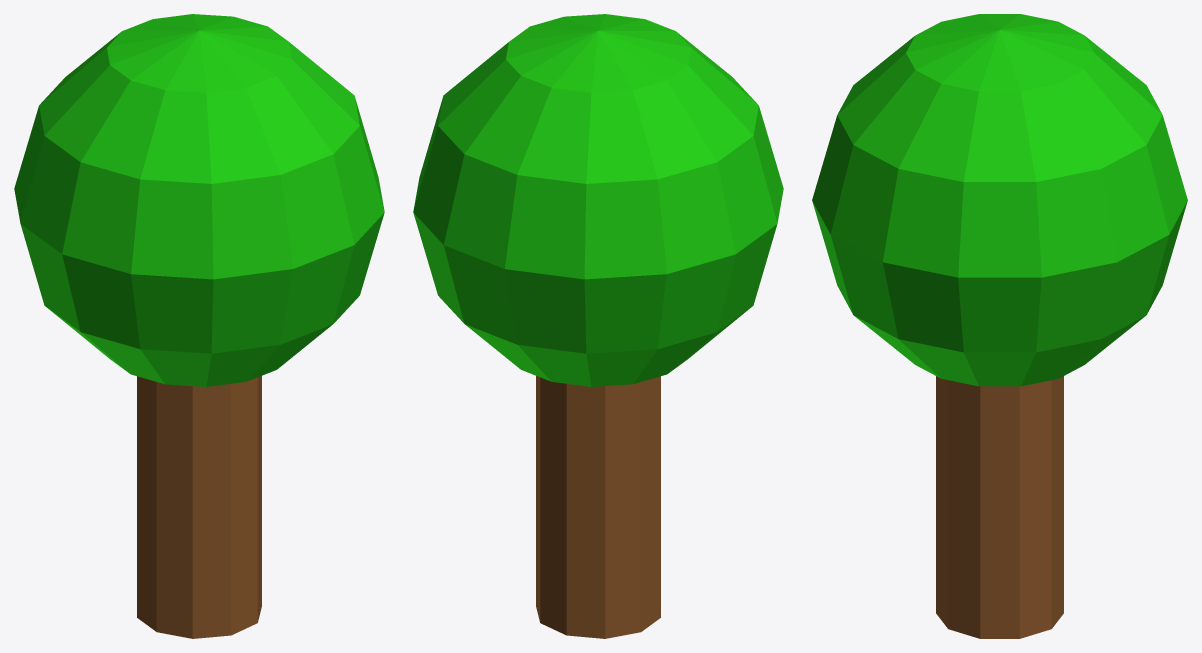
Rendered from Tree.fbx.
The picture shows the model from 3 angles, left to right: view 1: azimuth 30°, elevation 25°; view 2: azimuth 150°, elevation 25°; view 3: azimuth 270°, elevation 25°; orthographic projection.
Visible parts, largest first — view 1: Sphere; view 2: Sphere; view 3: Sphere.
Boxes of the visible parts, x1=… form: Sphere: x1=14, y1=14, x2=384, y2=638; Sphere: x1=413, y1=14, x2=783, y2=638; Sphere: x1=812, y1=14, x2=1187, y2=638.
Bounding box in the file's own units: 573 × 1006 × 587.
